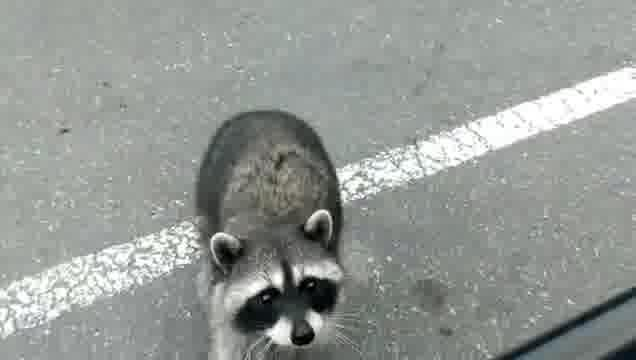raccoon: (191, 107, 350, 360)
